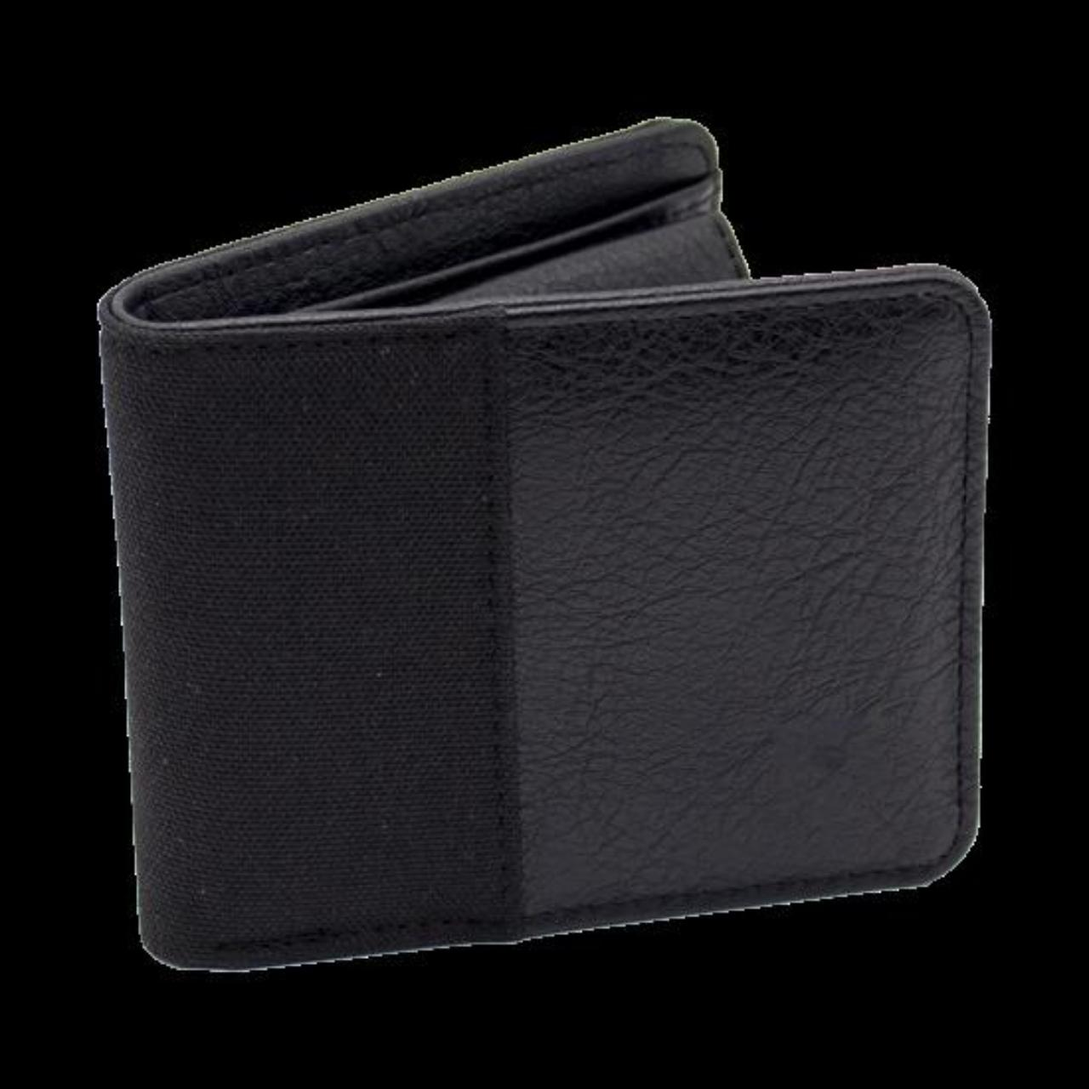wallet: (115, 117, 1032, 996)
